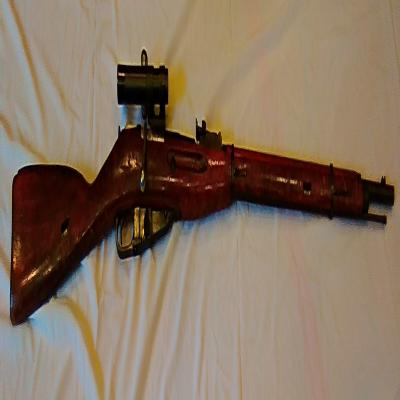weapon: (10, 52, 397, 326)
